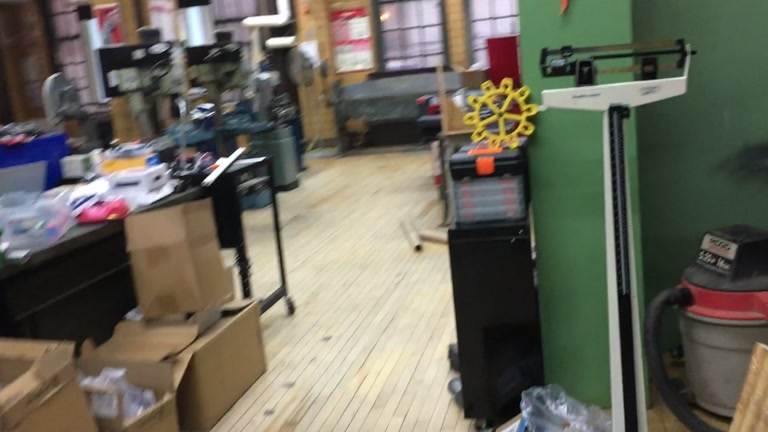gear: (463, 78, 541, 151)
